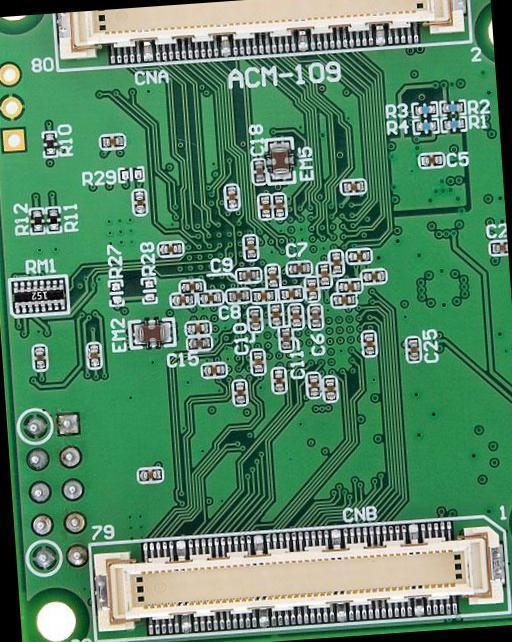Capacitor: (230, 377, 247, 405), (250, 158, 268, 184), (99, 132, 126, 149), (339, 177, 366, 194), (223, 184, 240, 211), (359, 267, 386, 284), (270, 367, 287, 394), (241, 233, 257, 261), (168, 291, 196, 307), (235, 267, 261, 284), (263, 263, 280, 289), (225, 286, 251, 303), (200, 361, 226, 378), (137, 466, 163, 483), (327, 249, 343, 276), (285, 260, 312, 276), (330, 292, 357, 308), (246, 305, 262, 332), (85, 342, 101, 369), (316, 261, 331, 289), (417, 152, 443, 168), (270, 193, 286, 219), (277, 325, 293, 351), (321, 375, 337, 401), (346, 247, 370, 264), (288, 304, 303, 331), (336, 278, 361, 294), (251, 288, 276, 304), (308, 304, 324, 329), (360, 331, 376, 356), (249, 350, 265, 375), (131, 189, 146, 215), (157, 240, 183, 255), (178, 279, 205, 293), (268, 303, 283, 328), (186, 335, 211, 350), (405, 336, 420, 361), (198, 289, 221, 305), (305, 276, 319, 302), (184, 320, 210, 334), (305, 371, 319, 397), (278, 286, 302, 301), (32, 345, 46, 370), (257, 194, 270, 220), (486, 240, 507, 256)
Connector: (88, 513, 510, 641), (53, 0, 474, 70), (0, 53, 32, 159)
Pads: (115, 165, 146, 184), (106, 278, 124, 307), (139, 276, 157, 304)
Pins: (11, 400, 92, 582)
Resistor: (9, 272, 68, 316), (411, 117, 440, 133), (40, 133, 58, 158), (411, 101, 439, 117), (439, 116, 467, 132), (439, 99, 466, 115), (29, 207, 44, 235), (47, 207, 61, 232)
